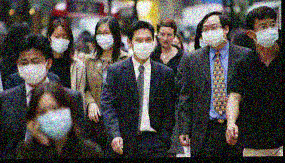with_mask: (32, 101, 71, 141), (16, 56, 48, 85), (254, 18, 279, 48), (199, 21, 226, 47), (129, 34, 154, 59), (49, 32, 70, 54), (94, 27, 113, 51)
without_mask: (157, 30, 174, 47)
